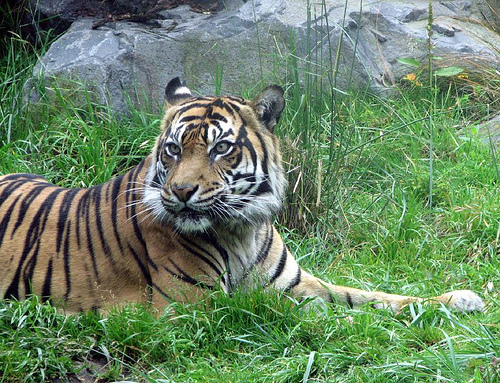Tigre: (7, 94, 318, 355)
